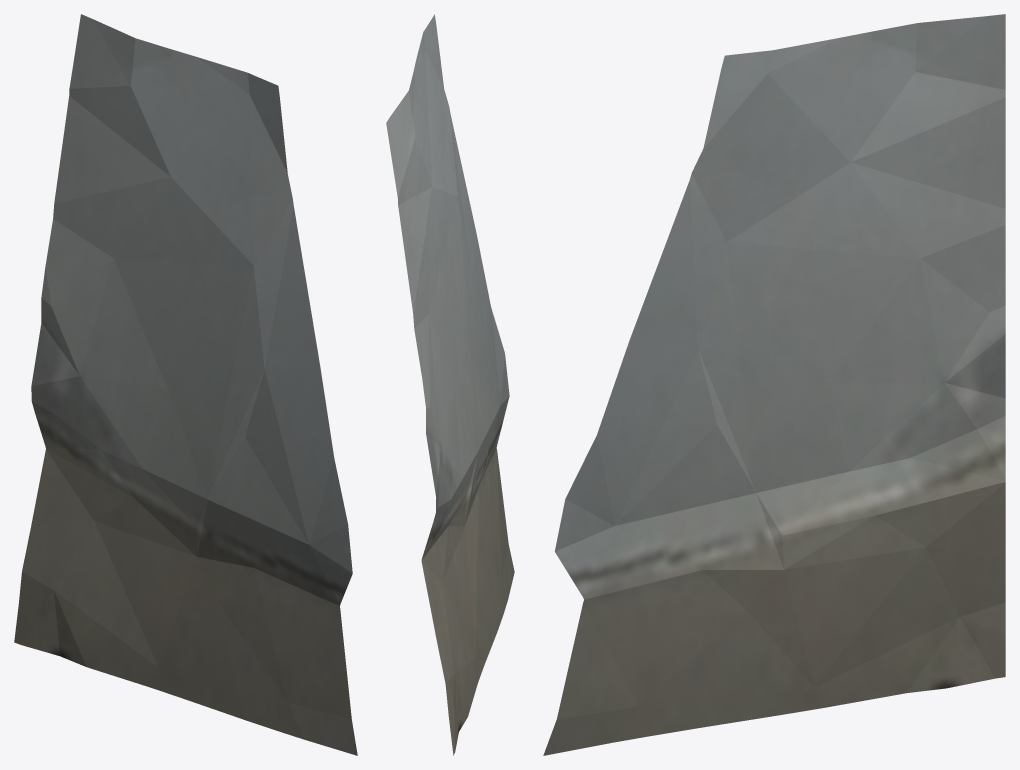
3 renders of one model, left to right at view 1: azimuth 30°, elevation 25°; view 2: azimuth 150°, elevation 25°; view 3: azimuth 270°, elevation 25°, orthographic. The views are drawn at different scales.
Bounding box in the file's own units: 0.4048 × 1.67 × 1.
1 material, 1 textured.
